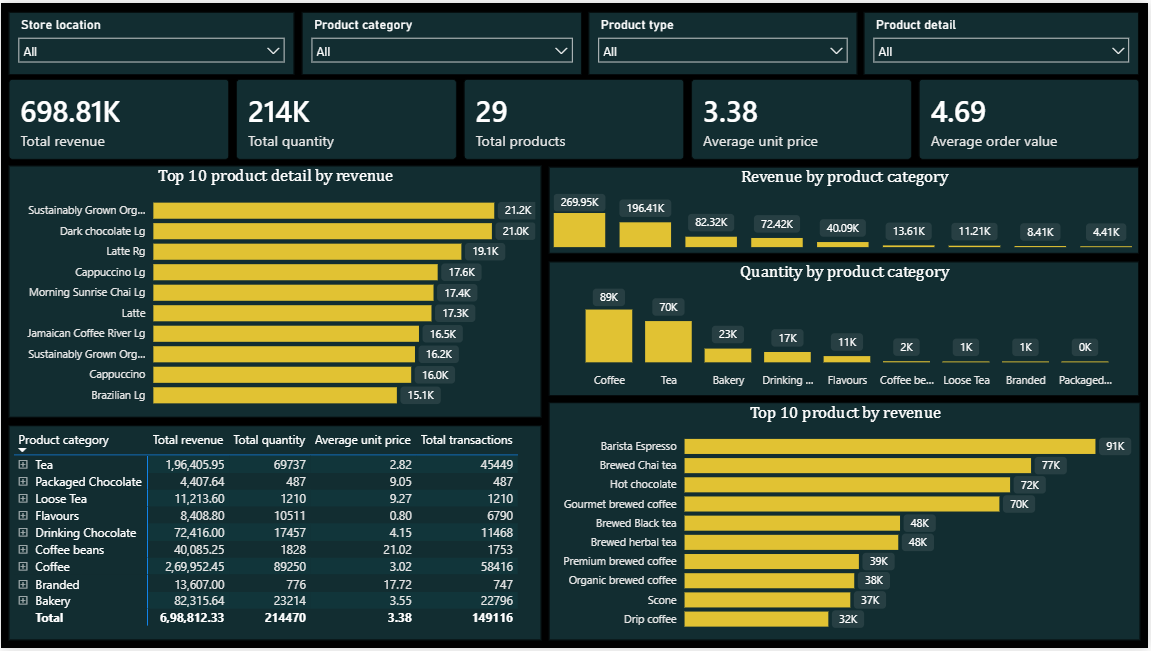

The dashboard page shown, as its layout file describes it:
{"tool":"powerbi","page":{"name":"Product Analysis","canvas":[1280,720],"ordinal":1},"visuals":[{"type":"cardVisual","fields":{"Data":["Transactions.total revenue","Transactions.total quantity","Transactions.total_products_type","Transactions.average_unit_price","Transactions.average_order_value"]},"box":[8.6,80,1271.4,100],"z":0},{"type":"barChart","title":"Top 10 product detail by revenue","fields":{"Y":["Transactions.total revenue"],"Category":["Transactions.product_detail"]},"box":[8.6,181.4,594.3,281.4],"z":1000},{"type":"columnChart","title":"Revenue by product category","fields":{"Category":["Transactions.product_category"],"Y":["Transactions.total revenue"]},"box":[611.4,182.9,658.6,97.1],"z":2000},{"type":"columnChart","title":" Quantity by product category","fields":{"Category":["Transactions.product_category"],"Y":["Transactions.total quantity"]},"box":[611.4,288.6,658.6,150],"z":3000},{"type":"barChart","title":"Top 10 product  by revenue","fields":{"Category":["Transactions.product_type"],"Y":["Transactions.total revenue"]},"box":[611.4,445.7,660,265.7],"z":4000},{"type":"pivotTable","fields":{"Values":["Transactions.total revenue","Transactions.total quantity","Transactions.average_unit_price","Transactions.total teansactions"],"Rows":["Transactions.product_category","Transactions.product_type"]},"box":[8.6,471.4,594.3,240],"z":5000},{"type":"slicer","fields":{"Values":["Transactions.store_location"]},"box":[8.6,10,318.6,70],"z":6000},{"type":"slicer","fields":{"Values":["Transactions.product_type"]},"box":[655.7,10,300,70],"z":7000},{"type":"slicer","fields":{"Values":["Transactions.product_category"]},"box":[335.7,10,312.8,70],"z":8000},{"type":"slicer","fields":{"Values":["Transactions.product_detail"]},"box":[962.9,10,307.1,70],"z":9000}]}

Visuals, with their boxes in screenshot pixels (x1, y1, x2, y2), scaled from the page's 1280x720 canvas onto the 1151x651 screenshot:
cardVisual - Transactions.total revenue x Transactions.total quantity: region(8, 72, 1150, 163)
"Top 10 product detail by revenue" barChart: region(8, 164, 542, 418)
"Revenue by product category" columnChart: region(550, 165, 1142, 253)
" Quantity by product category" columnChart: region(550, 261, 1142, 397)
"Top 10 product  by revenue" barChart: region(550, 403, 1143, 643)
pivotTable - Transactions.total revenue x Transactions.total quantity: region(8, 426, 542, 643)
slicer - Transactions.store_location: region(8, 9, 294, 72)
slicer - Transactions.product_type: region(590, 9, 859, 72)
slicer - Transactions.product_category: region(302, 9, 583, 72)
slicer - Transactions.product_detail: region(866, 9, 1142, 72)
